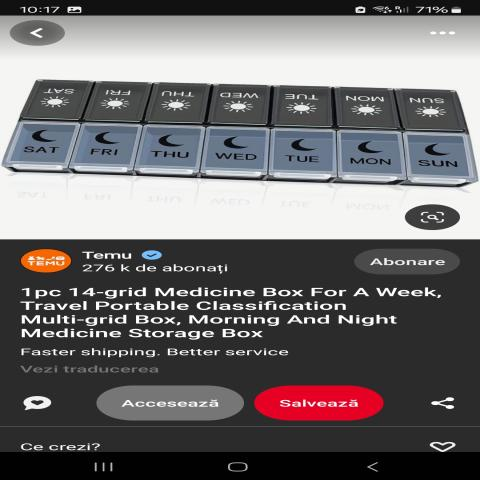PillBox: (6, 65, 480, 194)
